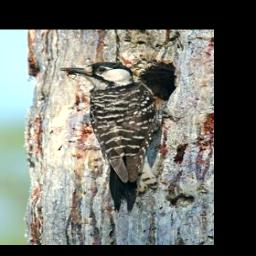Woodpecker: (58, 61, 183, 216)
